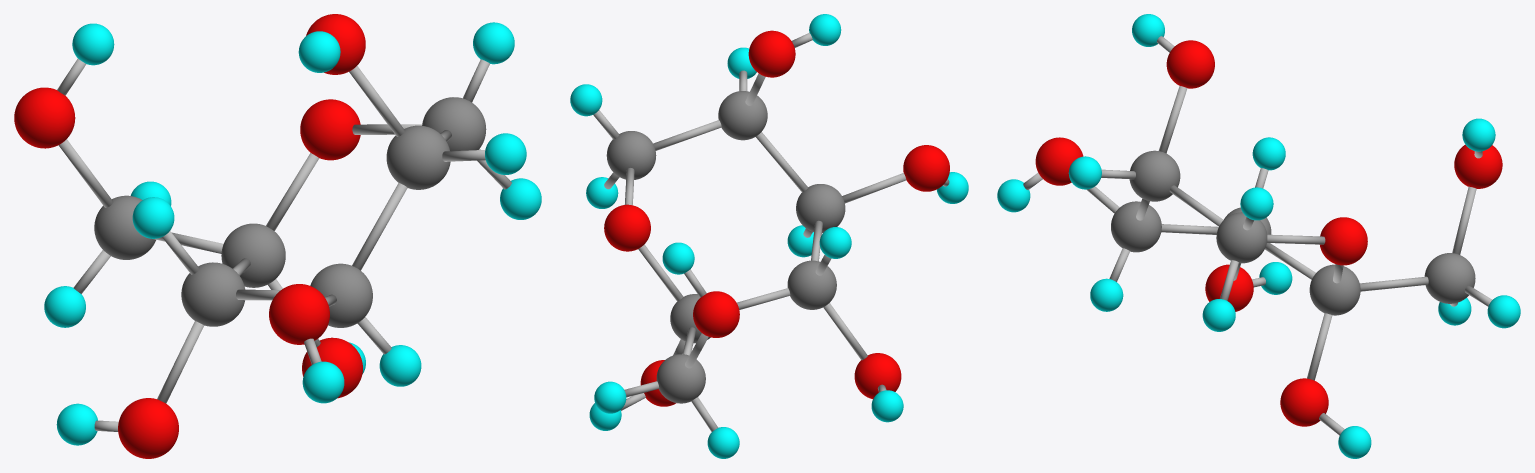
Rendered from β-D-fructose.glb.
The picture shows the model from 3 angles, left to right: view 1: azimuth 30°, elevation 25°; view 2: azimuth 150°, elevation 25°; view 3: azimuth 270°, elevation 25°; orthographic projection. The views are drawn at different scales.
Visible parts, largest first — view 1: CMAtom_0; view 2: CMAtom_0; view 3: CMAtom_0.
Boxes of the visible parts, <box> form: CMAtom_0: <box>14,14,541,458</box>; CMAtom_0: <box>570,14,968,458</box>; CMAtom_0: <box>997,14,1520,458</box>.
Bounding box in the file's own units: 0.4904 × 0.5091 × 0.6327.
